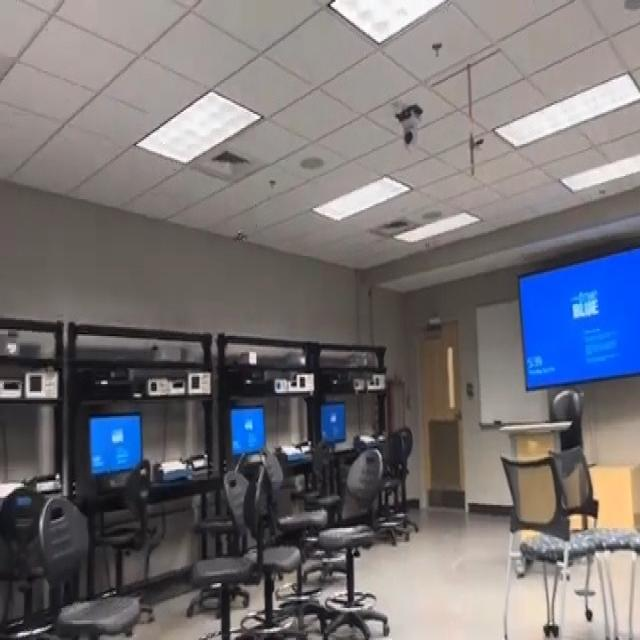drone: (225, 220, 254, 254)
